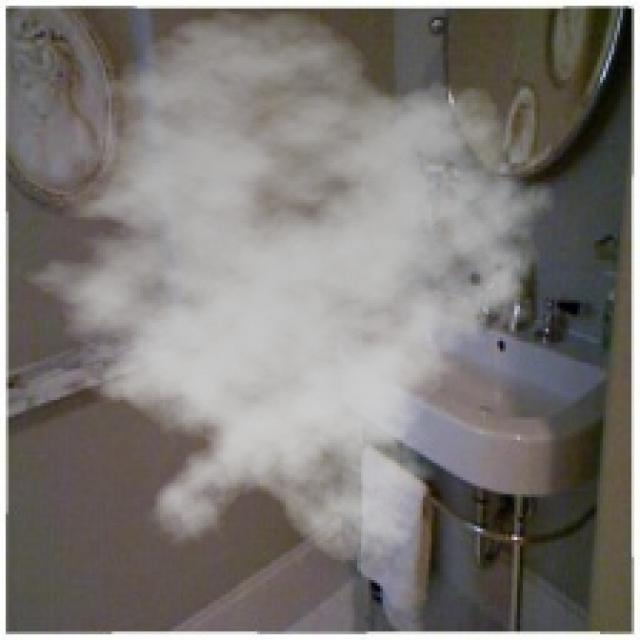smoke: (0, 8, 569, 566)
